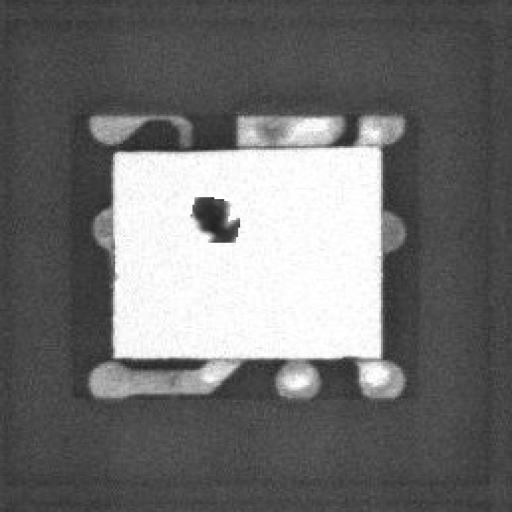DIE_INK: (180, 204, 226, 250)
